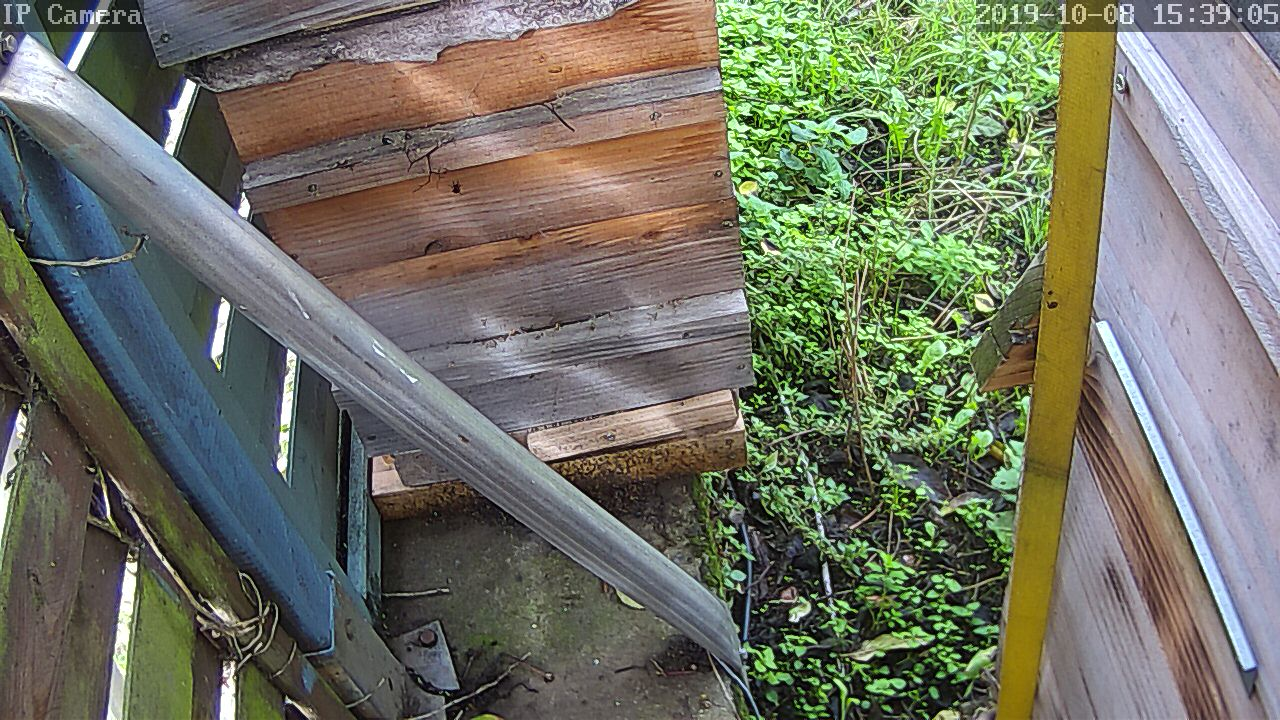hornet: (825, 439, 870, 492)
